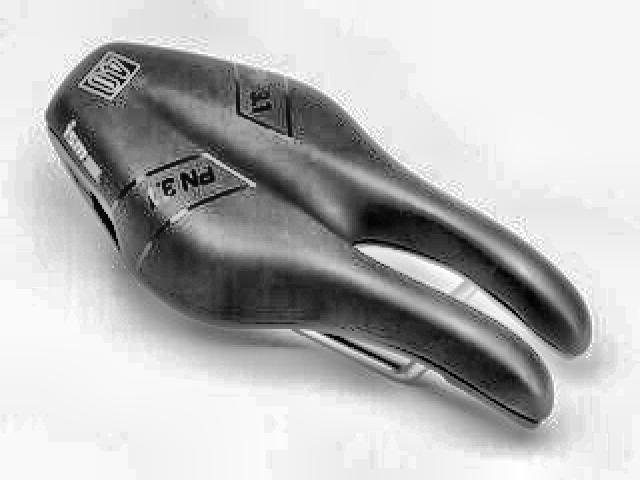saddle: (36, 34, 604, 435)
